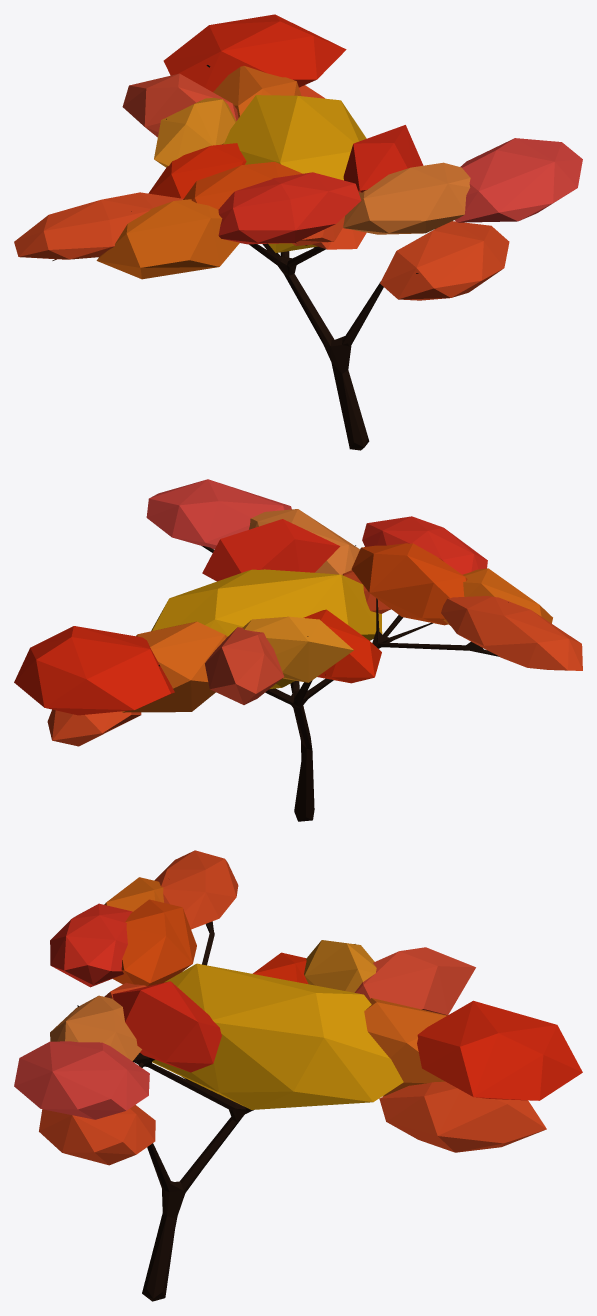
The model's file is boom.obj.
3 renders of one model, top to bottom at view 1: azimuth 30°, elevation 25°; view 2: azimuth 150°, elevation 25°; view 3: azimuth 270°, elevation 25°, orthographic. The views are drawn at different scales.
Parts seen in each view (by area): view 1: Icosphere.021, Icosphere.013, Icosphere.023_Icosphere.041, Icosphere.030_Icosphere.038, Icosphere.015_Icosphere.039, Icosphere.019_Icosphere.037, Icosphere.016_Icosphere.040, Icosphere.022, Cube.001_Cube.002, Icosphere.018_Icosphere.043, Icosphere.017, Icosphere.027 (+5 smaller); view 2: Icosphere.013, Icosphere.021, Icosphere.022, Icosphere.029, Icosphere.023_Icosphere.041, Icosphere.027, Icosphere.014, Icosphere.017, Icosphere.018_Icosphere.043, Cube.001_Cube.002, Icosphere.030_Icosphere.038, Icosphere.020 (+3 smaller); view 3: Icosphere.021, Icosphere.013, Icosphere.023_Icosphere.041, Icosphere.035_Icosphere.036, Icosphere.027, Icosphere.017, Cube.001_Cube.002, Icosphere.029, Icosphere.030_Icosphere.038, Icosphere.015_Icosphere.039, Icosphere.022, Icosphere.014 (+4 smaller).
Boxes of the visible parts, x1,y1,x2,y2 form: Icosphere.021: (223, 95, 366, 252); Icosphere.013: (163, 14, 346, 91); Icosphere.023_Icosphere.041: (455, 138, 582, 222); Icosphere.030_Icosphere.038: (218, 172, 361, 244); Icosphere.015_Icosphere.039: (380, 221, 509, 300); Icosphere.019_Icosphere.037: (96, 199, 239, 279); Icosphere.016_Icosphere.040: (343, 162, 470, 234); Icosphere.022: (14, 192, 182, 259); Cube.001_Cube.002: (52, 65, 418, 450); Icosphere.018_Icosphere.043: (154, 97, 236, 167); Icosphere.017: (122, 73, 238, 137); Icosphere.027: (343, 125, 423, 192); Icosphere.013: (14, 626, 174, 715); Icosphere.021: (151, 569, 382, 689); Icosphere.022: (441, 596, 582, 670); Icosphere.029: (351, 543, 467, 625); Icosphere.023_Icosphere.041: (146, 479, 291, 549); Icosphere.027: (202, 519, 340, 581); Icosphere.014: (121, 621, 227, 712); Icosphere.017: (205, 627, 284, 704); Icosphere.018_Icosphere.043: (242, 616, 353, 682); Cube.001_Cube.002: (158, 545, 508, 821); Icosphere.030_Icosphere.038: (362, 516, 487, 574); Icosphere.020: (303, 609, 381, 683); Icosphere.021: (152, 963, 403, 1109); Icosphere.013: (417, 1000, 582, 1100); Icosphere.023_Icosphere.041: (14, 1041, 149, 1119); Icosphere.035_Icosphere.036: (379, 1081, 546, 1152); Icosphere.027: (112, 981, 221, 1072); Icosphere.017: (354, 947, 475, 1015); Cube.001_Cube.002: (77, 921, 355, 1301); Icosphere.029: (113, 899, 196, 986); Icosphere.030_Icosphere.038: (50, 903, 132, 987); Icosphere.015_Icosphere.039: (39, 1105, 155, 1165); Icosphere.022: (154, 850, 238, 929); Icosphere.014: (364, 998, 447, 1096).
Bounding box in the file's own units: 11.3 × 6.64 × 10.33.
